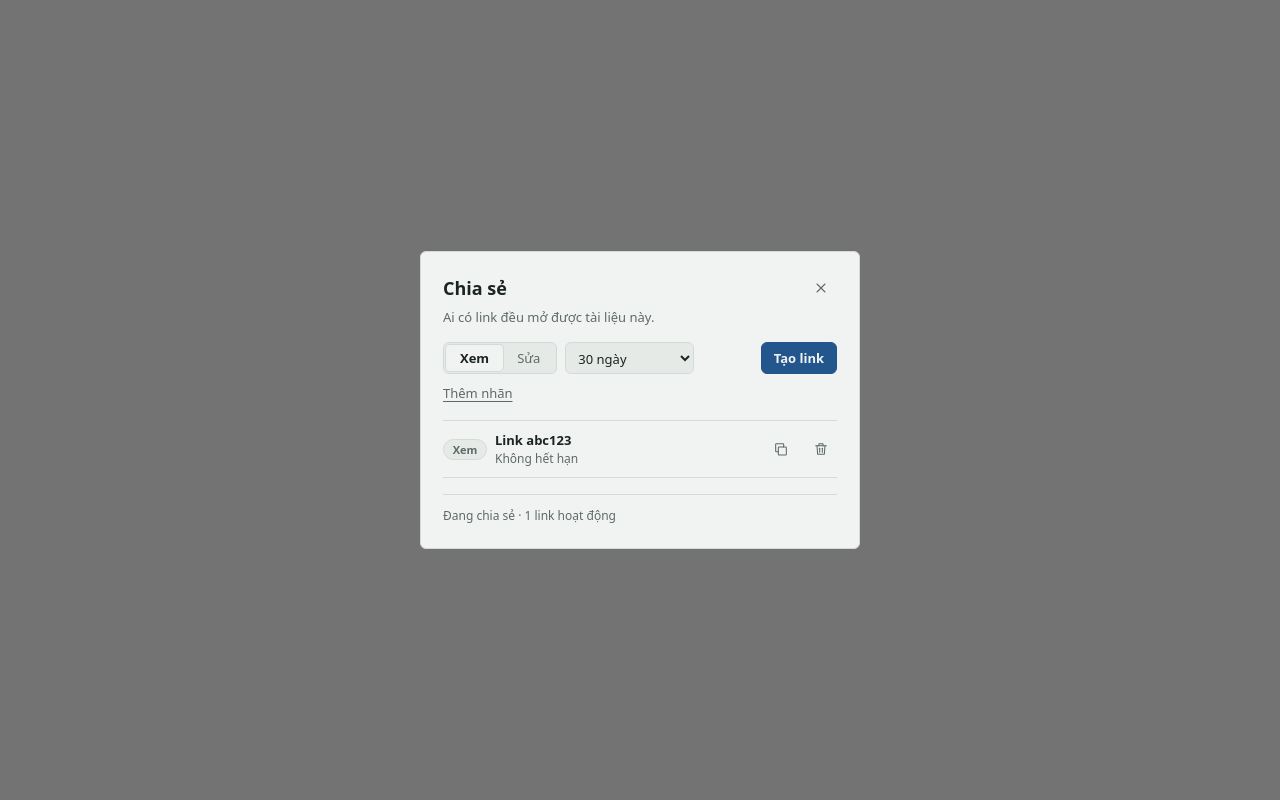
Test: ShareModal › clipboard rejection shows message
The width and height of the screenshot is (1280, 800).
Click the button named "Sao chép link" at (781, 449), box [765, 433, 797, 465]
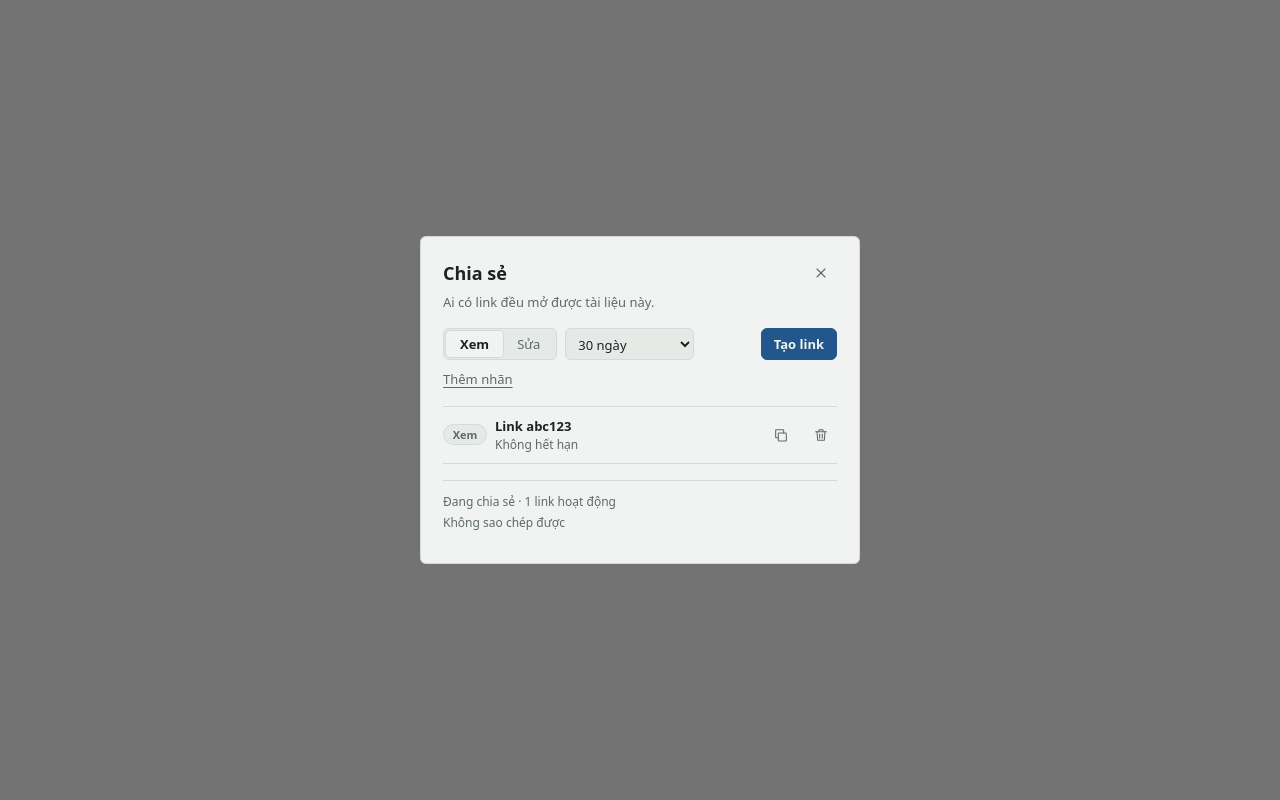
Check: the text "Không sao chép được" is shown, box [443, 514, 565, 531]
